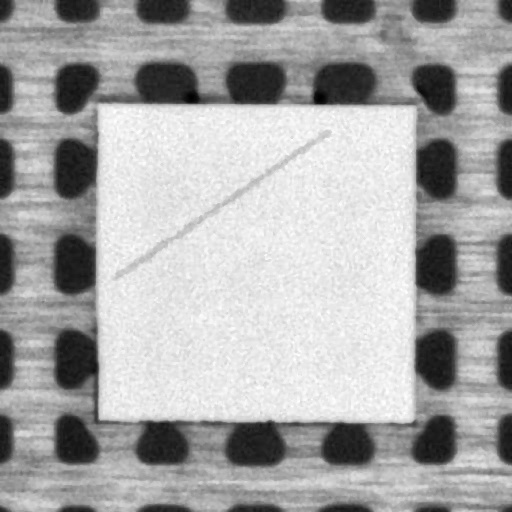DIE_CRACK: (114, 131, 326, 278)
